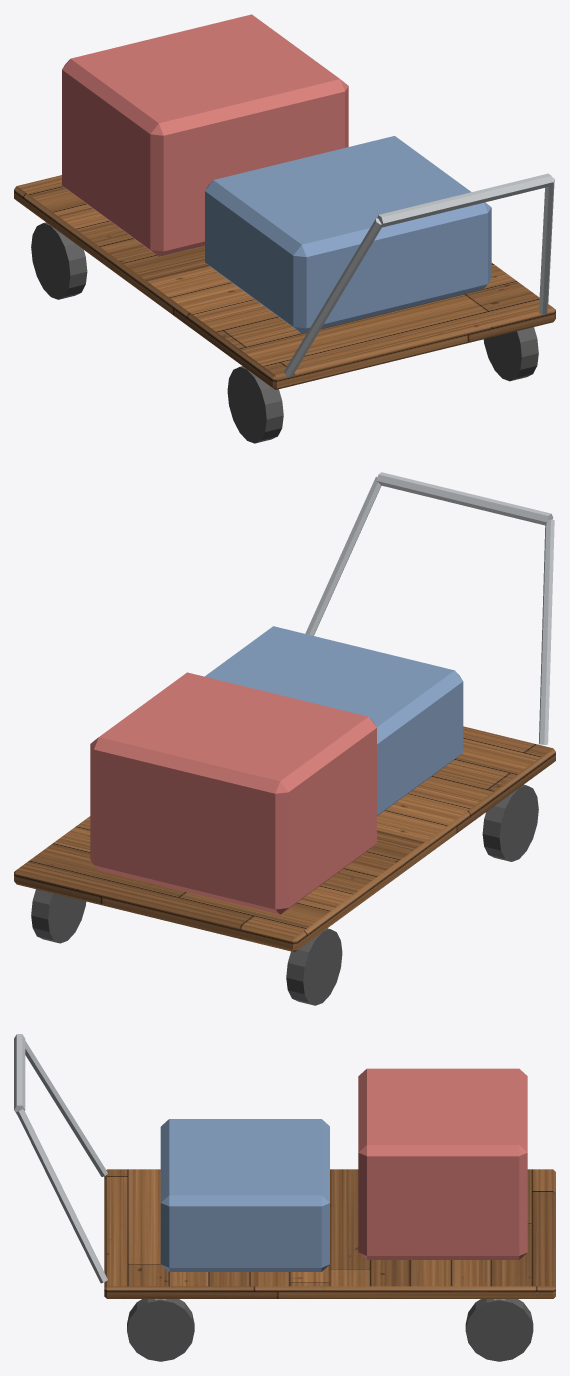
File: bag_cart.glb
3 renders of one model, top to bottom at view 1: azimuth 30°, elevation 25°; view 2: azimuth 150°, elevation 25°; view 3: azimuth 270°, elevation 25°, orthographic. The views are drawn at different scales.
Visible parts, largest first — view 1: bag_cart_vinyl_r, bag_cart_news_b, bag_cart_wood, bag_cart_rubber, bag_cart_steel; view 2: bag_cart_vinyl_r, bag_cart_wood, bag_cart_news_b, bag_cart_rubber, bag_cart_steel; view 3: bag_cart_vinyl_r, bag_cart_wood, bag_cart_news_b, bag_cart_rubber, bag_cart_steel.
Part boxes in pixels (box(x1,y1,x2,y2)): bag_cart_vinyl_r: box(62, 14, 348, 256); bag_cart_news_b: box(205, 136, 491, 333); bag_cart_wood: box(14, 175, 555, 389); bag_cart_rubber: box(31, 222, 538, 443); bag_cart_steel: box(284, 173, 554, 376); bag_cart_vinyl_r: box(90, 672, 376, 914); bag_cart_wood: box(14, 726, 555, 952); bag_cart_news_b: box(205, 626, 463, 815); bag_cart_rubber: box(31, 784, 538, 1005); bag_cart_steel: box(305, 472, 554, 744); bag_cart_vinyl_r: box(358, 1068, 527, 1259); bag_cart_wood: box(104, 1169, 555, 1298); bag_cart_news_b: box(160, 1119, 329, 1271); bag_cart_rubber: box(127, 1299, 533, 1361); bag_cart_steel: box(14, 1034, 505, 1300).
Bounding box in the file's own units: 1 × 0.9173 × 1.92.
5 materials, 1 textured.
